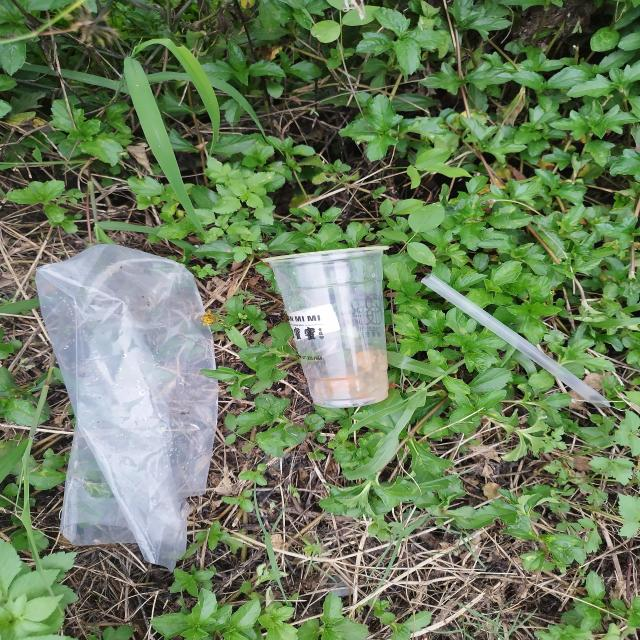bag: (36, 241, 219, 568)
drinking straw: (421, 274, 610, 407)
plastic glass: (260, 245, 390, 410)
